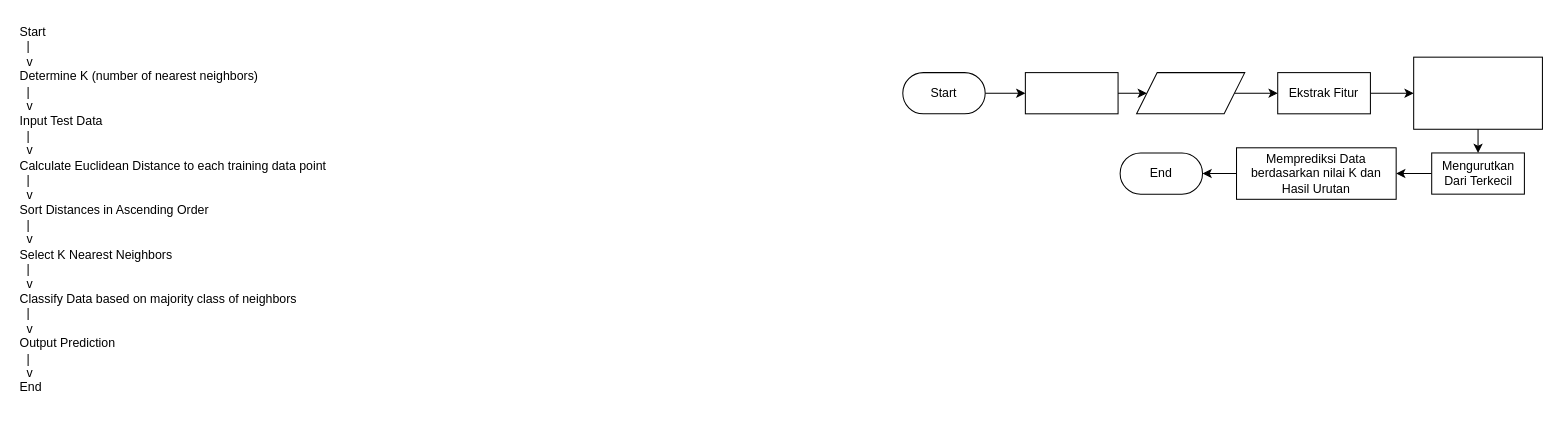
Image size: 1560x426. Some labels were removed from this diagram. The centre of each missing label's shape, as x and y in pixels:
"Input File MSD" goes at point 1190,93.
"Menentukan K" goes at point 1071,93.
"Menghitung Euclidean Distance untuk setiap Ekstraksi Fitur" goes at point 1477,92.
